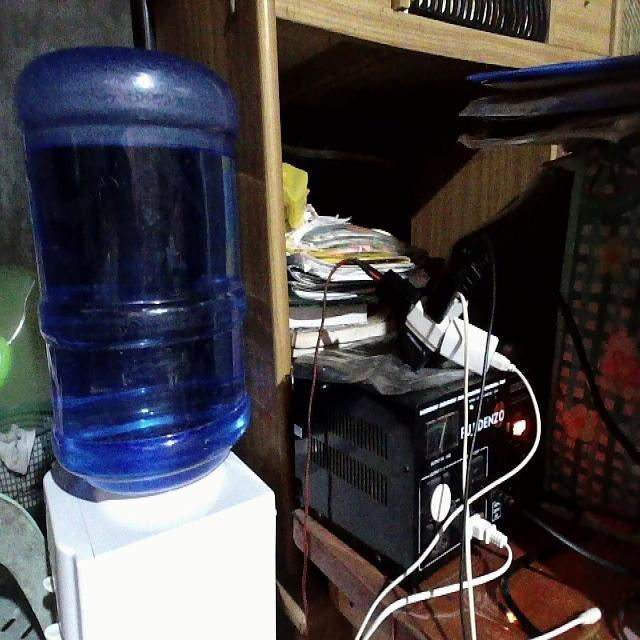-: (370, 241, 518, 379)
